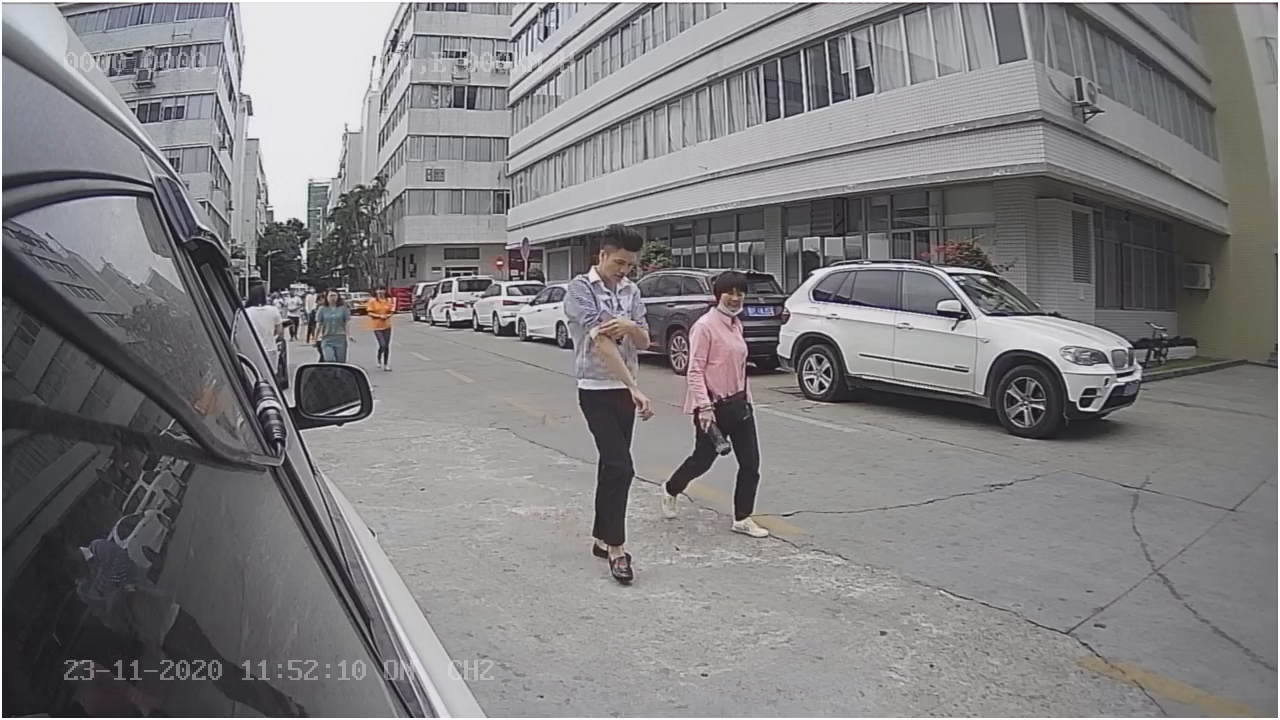person: (558, 211, 651, 583), (661, 269, 782, 541)
